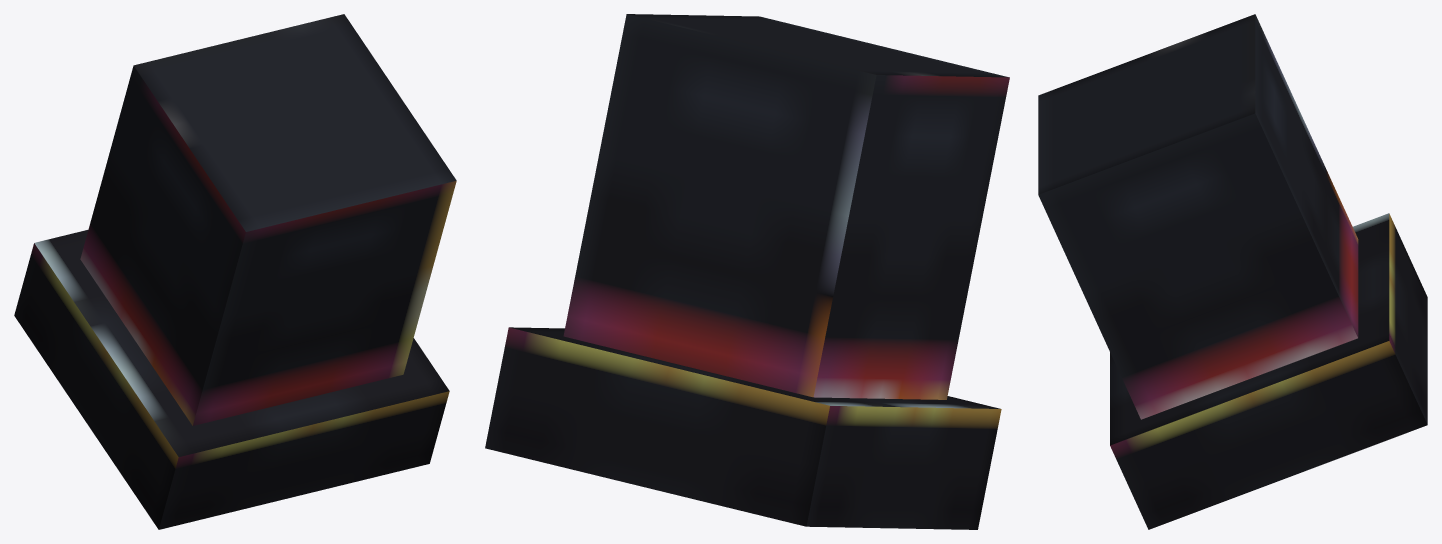
The model's file is tophat.obj.
The picture shows the model from 3 angles, left to right: view 1: azimuth 30°, elevation 25°; view 2: azimuth 150°, elevation 25°; view 3: azimuth 270°, elevation 25°; orthographic projection. The views are drawn at different scales.
Visible parts, largest first — view 1: tophat_part_1, tophat_part_0; view 2: tophat_part_1, tophat_part_0; view 3: tophat_part_1, tophat_part_0.
Boxes of the visible parts, bbox=[...] form: tophat_part_1: bbox=[80, 14, 456, 425]; tophat_part_0: bbox=[14, 230, 449, 529]; tophat_part_1: bbox=[563, 14, 1009, 399]; tophat_part_0: bbox=[485, 327, 1001, 529]; tophat_part_1: bbox=[1038, 14, 1358, 419]; tophat_part_0: bbox=[1110, 213, 1427, 529].
Bounding box in the file's own units: 0.5625 × 0.8265 × 0.725.
Materials: 1 (1 with a texture image).
